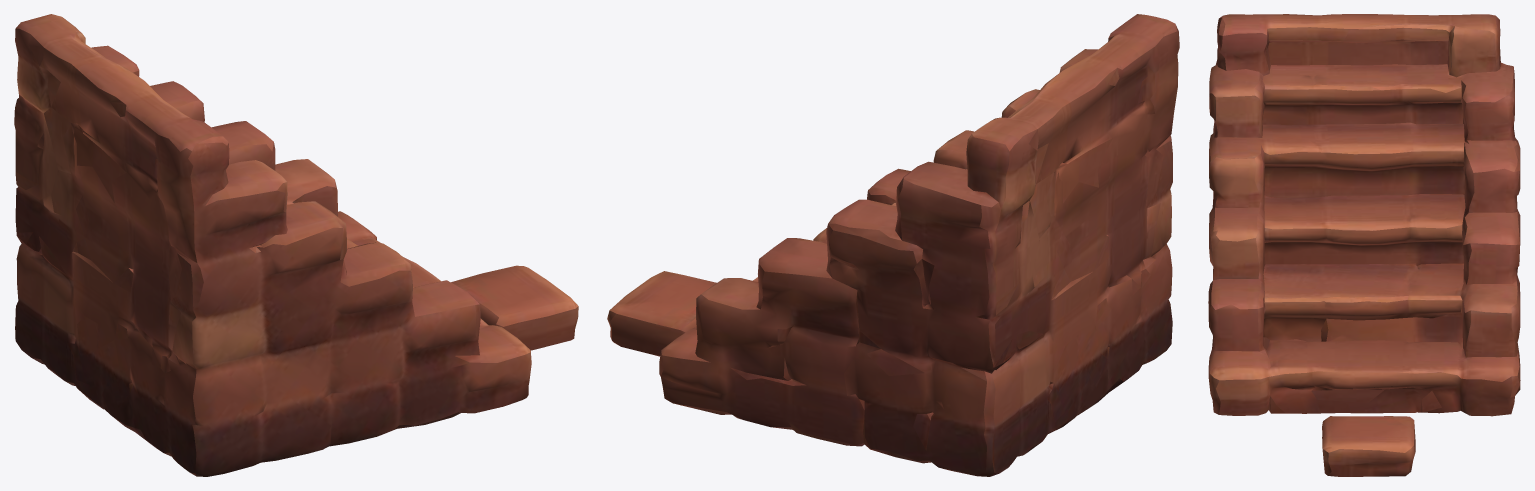
Rendered from lg-boss-arena-bleachers.glb.
3 views of the same model, side by side, from view 1: azimuth 30°, elevation 25°; view 2: azimuth 150°, elevation 25°; view 3: azimuth 270°, elevation 25° (orthographic). The views are drawn at different scales.
Visible parts, largest first — view 1: geometry_0; view 2: geometry_0; view 3: geometry_0.
Boxes of the visible parts, <box> form: geometry_0: <box>14,14,578,476</box>; geometry_0: <box>607,14,1179,476</box>; geometry_0: <box>1208,14,1520,476</box>.
Bounding box in the file's own units: 1 × 0.7278 × 0.7203.
1 material, 1 textured.
